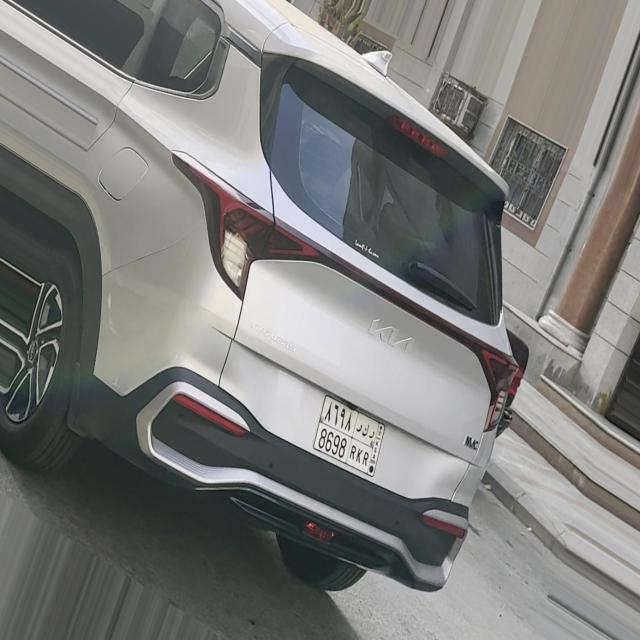Car-plate: (306, 381, 391, 482)
